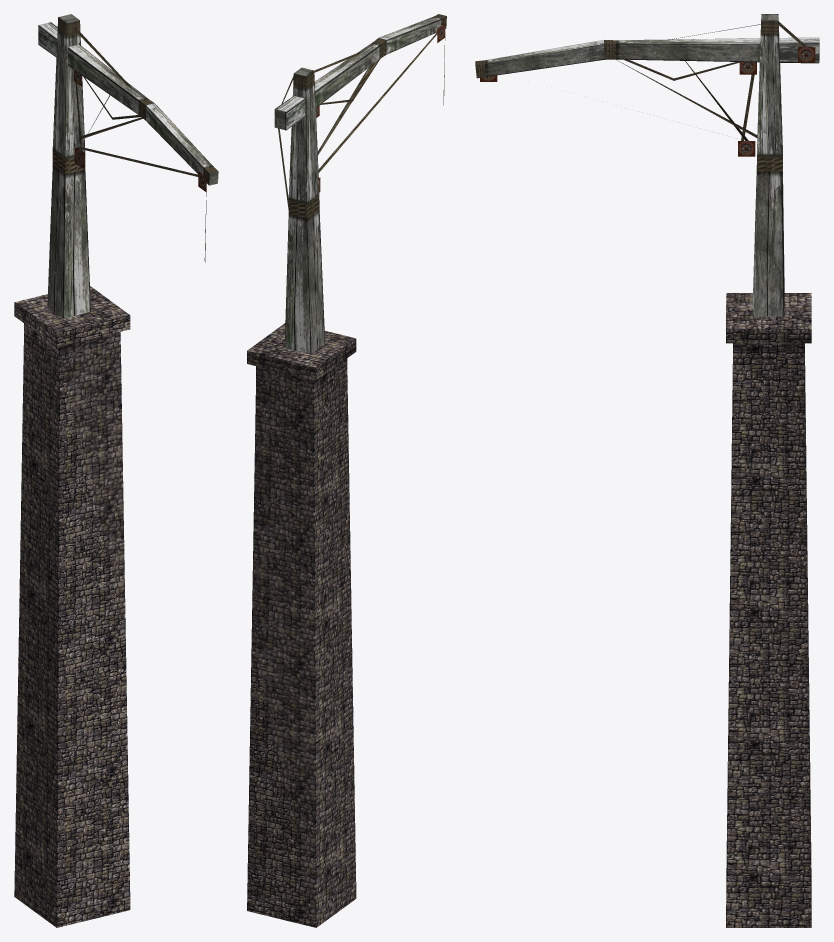
File: pir_m_prp_per_crane_bridge.fbx
The picture shows the model from 3 angles, left to right: view 1: azimuth 30°, elevation 25°; view 2: azimuth 150°, elevation 25°; view 3: azimuth 270°, elevation 25°; orthographic projection. The views are drawn at different scales.
Parts seen in each view (by area): view 1: base, arm_base_bottom, arm, arm_base_top, rope; view 2: base, arm_base_bottom, arm, arm_base_top, rope; view 3: base, arm, arm_base_bottom, arm_base_top, rope, pulley.
Part boxes in pixels (x1,y1,x2,y2): base: (14, 286, 130, 927); arm_base_bottom: (47, 165, 90, 318); arm: (38, 22, 218, 185); arm_base_top: (52, 14, 85, 174); rope: (73, 27, 206, 262); base: (247, 323, 356, 927); arm_base_bottom: (284, 210, 325, 353); arm: (274, 14, 446, 130); arm_base_top: (288, 67, 319, 218); rope: (278, 32, 445, 212); base: (726, 293, 811, 927); arm: (475, 37, 819, 78); arm_base_bottom: (752, 163, 784, 316); arm_base_top: (757, 14, 782, 171); rope: (617, 21, 806, 140); pulley: (480, 47, 815, 156).
Size of the model in its own units: 2402 by 27572 by 9650.
3 materials, 3 textured.
